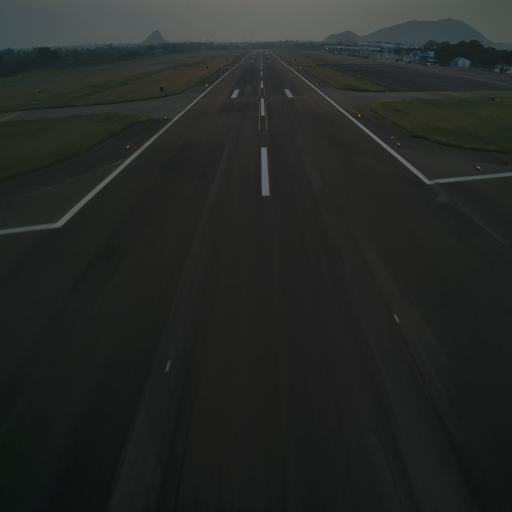on: (476, 165, 482, 172), (126, 142, 130, 152), (397, 142, 400, 148)
